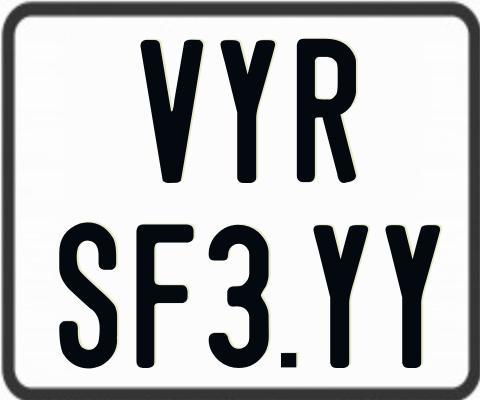3: (206, 224, 271, 372)
F: (133, 222, 195, 367)
R: (295, 36, 355, 180)
S: (57, 219, 120, 367)
V: (138, 37, 200, 183)
Y: (313, 222, 373, 365), (384, 225, 440, 373), (219, 37, 274, 181)
